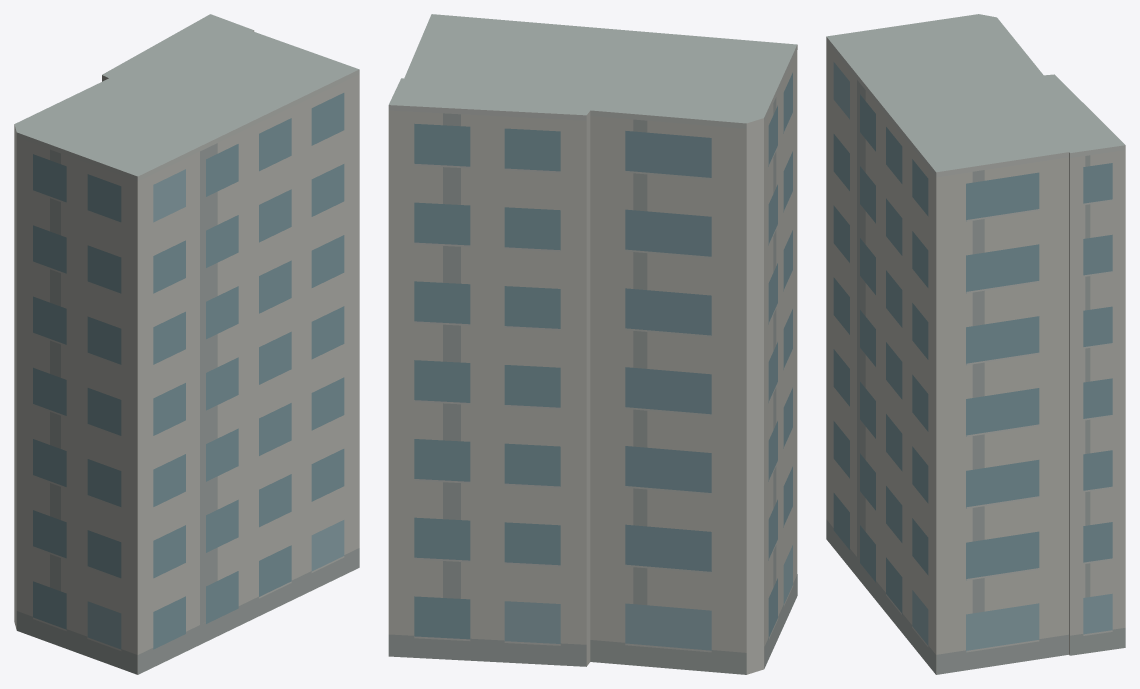
Rendered from survey-upis-32883534.glb.
The picture shows the model from 3 angles, left to right: view 1: azimuth 30°, elevation 25°; view 2: azimuth 150°, elevation 25°; view 3: azimuth 270°, elevation 25°; orthographic projection. The views are drawn at different scales.
Visible parts, largest first — view 1: survey-upis-32883534.tmp; view 2: survey-upis-32883534.tmp; view 3: survey-upis-32883534.tmp.
Part boxes in pixels (left/top/right/bottom): survey-upis-32883534.tmp: left=14, top=14, right=359, bottom=674; survey-upis-32883534.tmp: left=388, top=14, right=797, bottom=674; survey-upis-32883534.tmp: left=826, top=14, right=1125, bottom=674.
Bounding box in the file's own units: 16.42 × 24.3 × 13.13.
